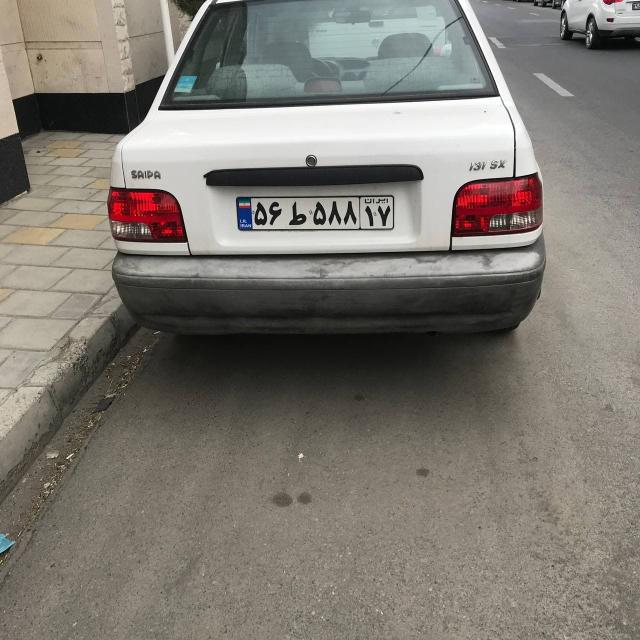Plates: (236, 196, 393, 230)
